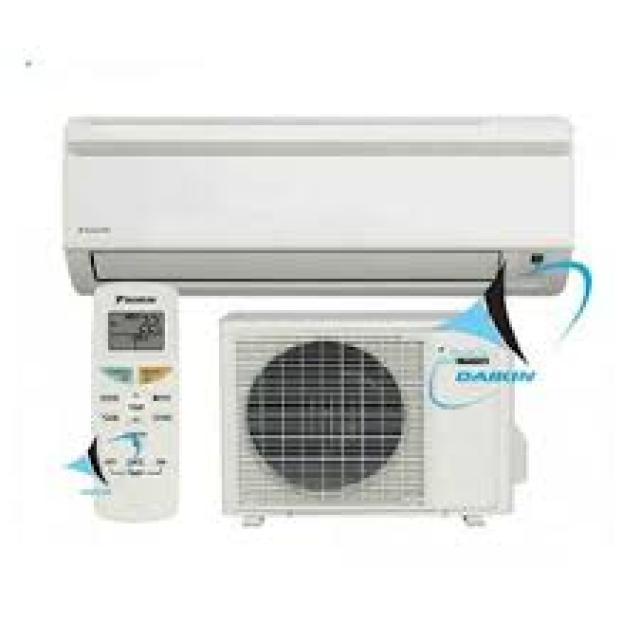ac: (57, 104, 573, 294)
